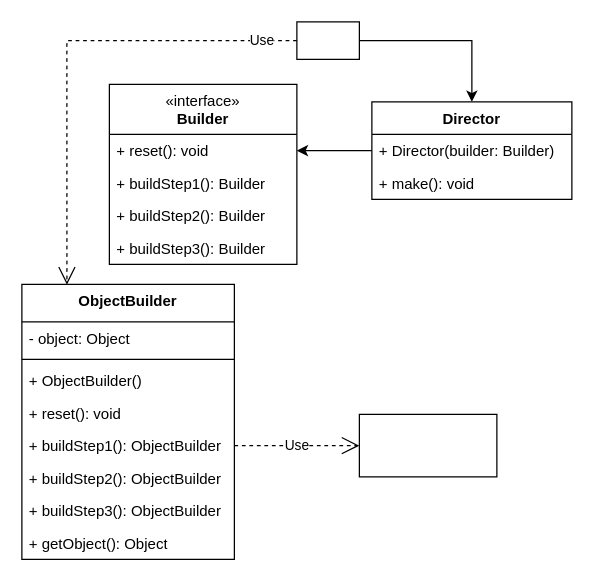
Image size: 594x585. Some labels were removed from this diagram. The shapes that lost their labels are listed below. From the top down, each one's box as (x1, y1, x2, y2) in pixels, then its label:
(296, 21, 359, 59): Client
(358, 413, 497, 477): Object
